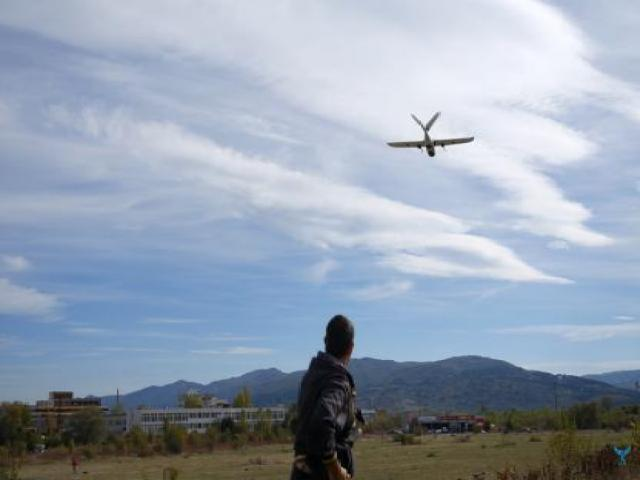uav: (379, 103, 486, 164)
